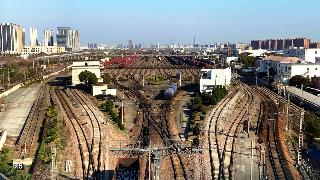train: (163, 80, 178, 100)
